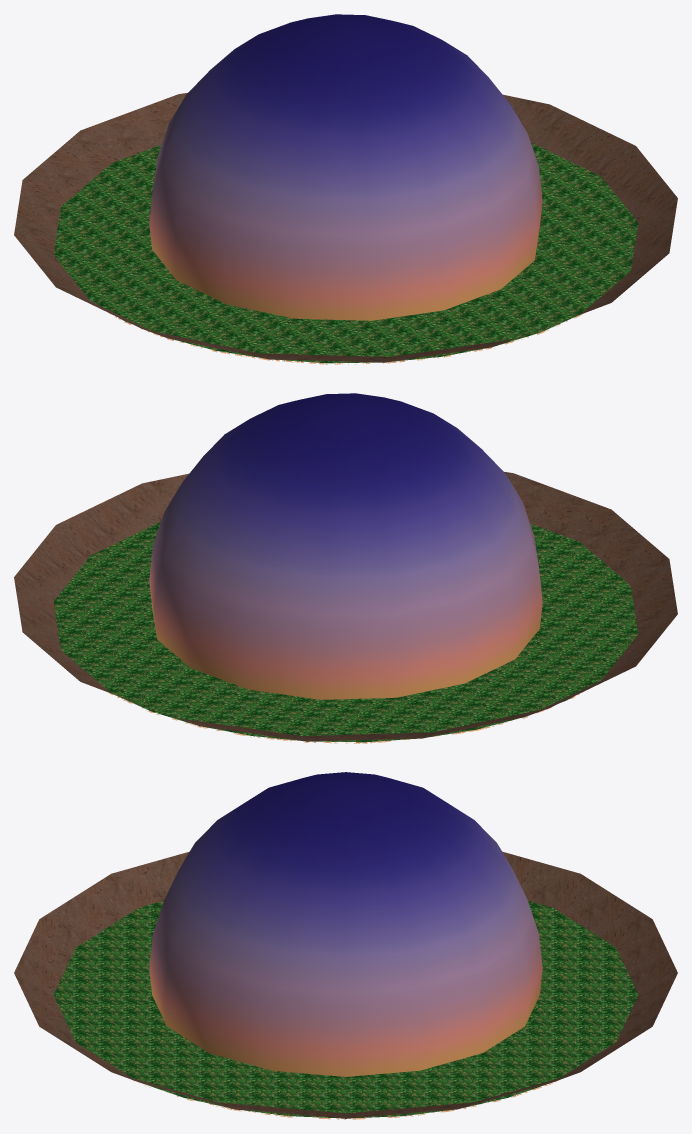
The model's file is sky_sky.fbx.
The picture shows the model from 3 angles, top to bottom: view 1: azimuth 30°, elevation 25°; view 2: azimuth 150°, elevation 25°; view 3: azimuth 270°, elevation 25°; orthographic projection.
Parts seen in each view (by area): view 1: SUN_SKY; view 2: SUN_SKY; view 3: SUN_SKY.
Boxes of the visible parts, left/top/right/bottom form: SUN_SKY: left=14, top=14, right=677, bottom=364; SUN_SKY: left=14, top=393, right=677, bottom=743; SUN_SKY: left=14, top=772, right=677, bottom=1119.
Bounding box in the file's own units: 337500 × 122638 × 337500.
